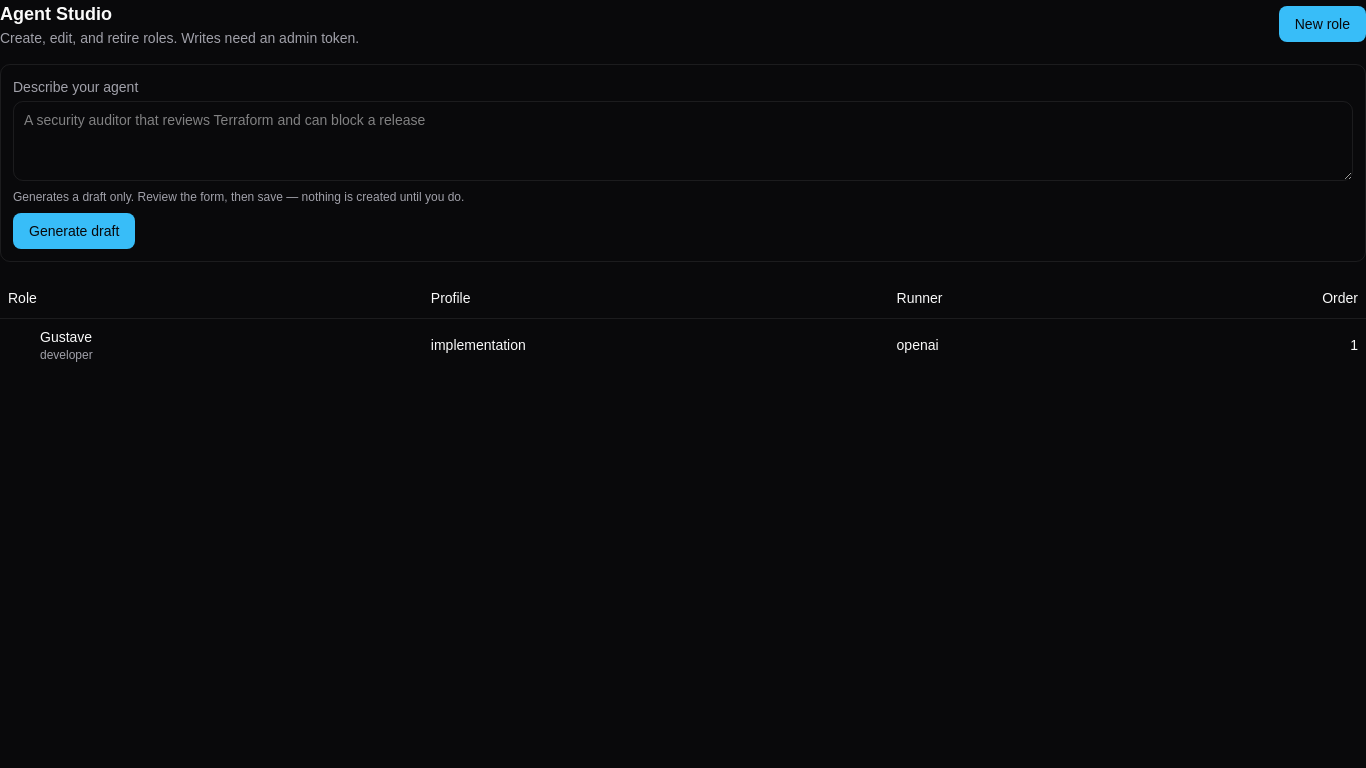
Test case: AgentStudioView › opens an existing role for edit
Click the button with test id "studio-row-developer": (66, 336) x1=0 y1=318 x2=1365 y2=370
(page scrolled)
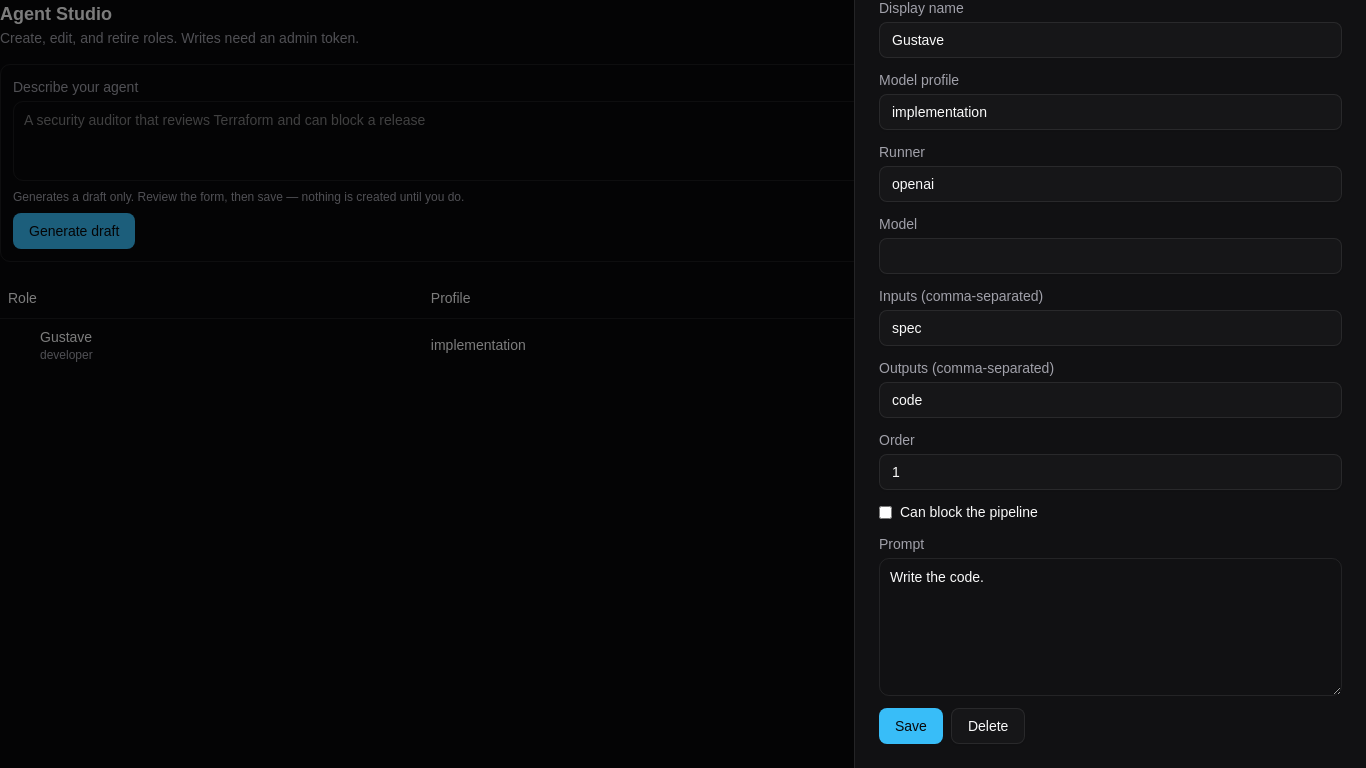
Expected: the button with test id "studio-delete" is shown, x1=951 y1=708 x2=1025 y2=744
